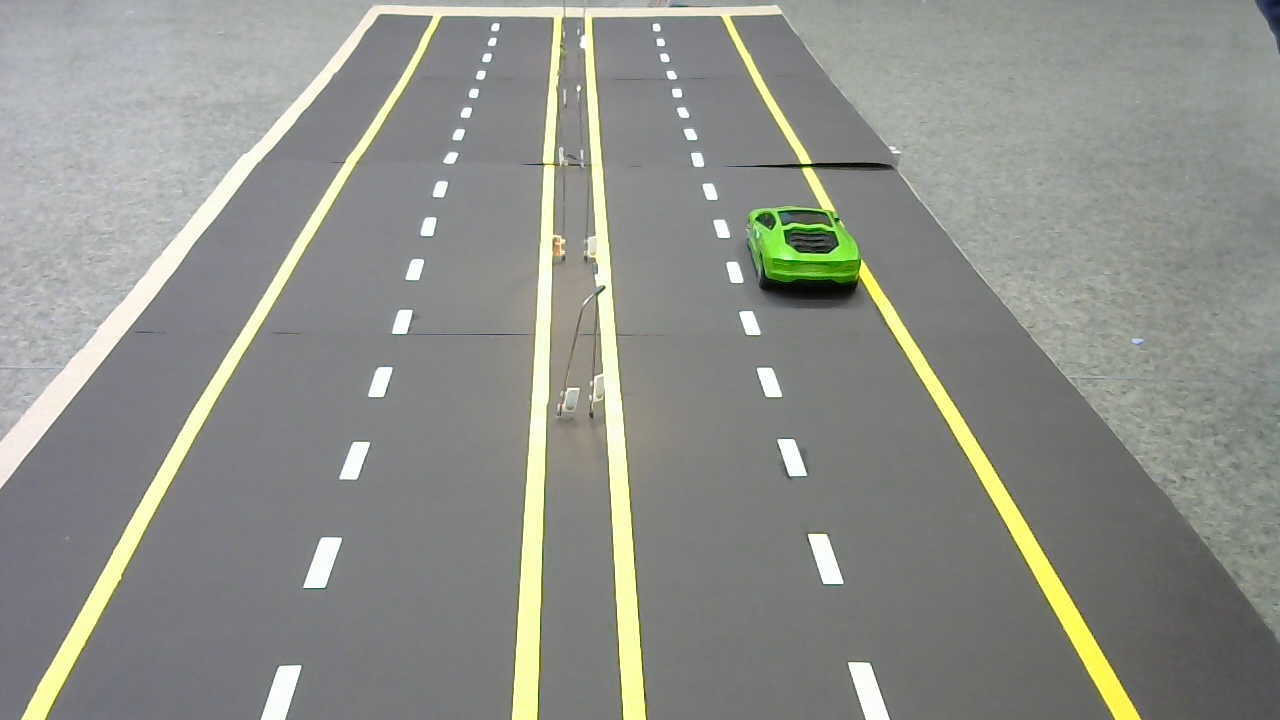back_car: (739, 205, 867, 297)
